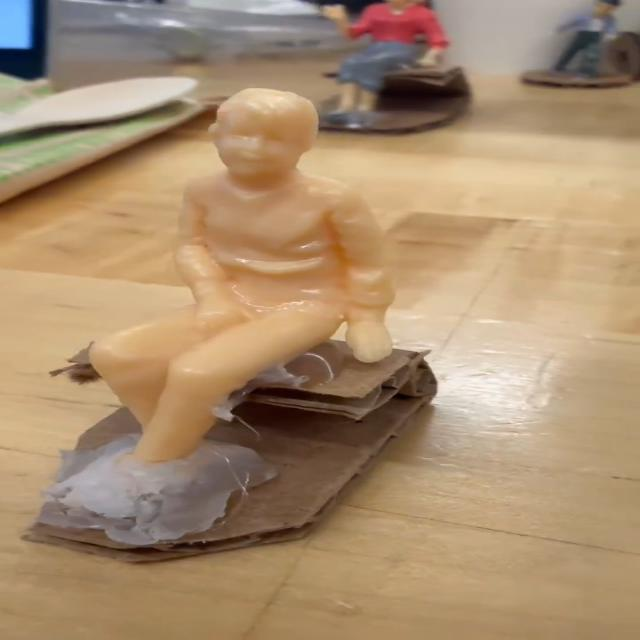Unauthorized: (75, 76, 422, 486)
